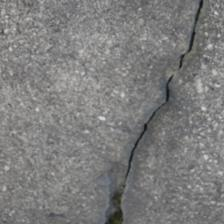Crack: (62, 1, 143, 183)
